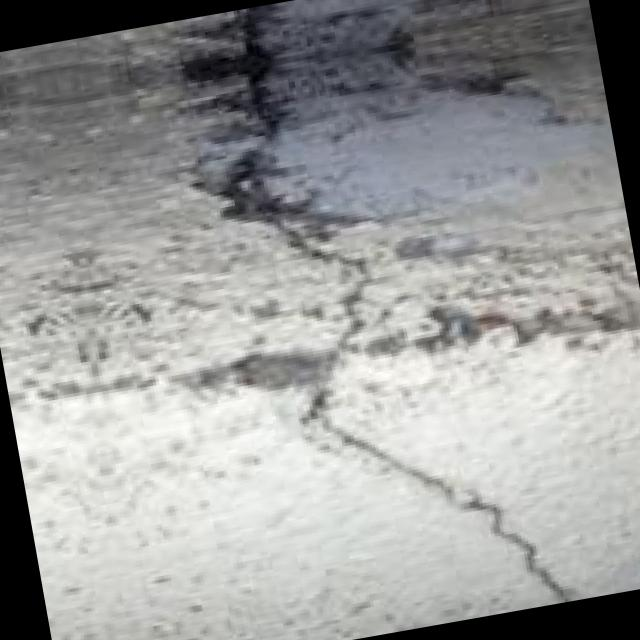crack: (261, 278, 640, 640)
